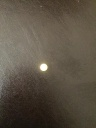Nurofen: (39, 62, 48, 72)
